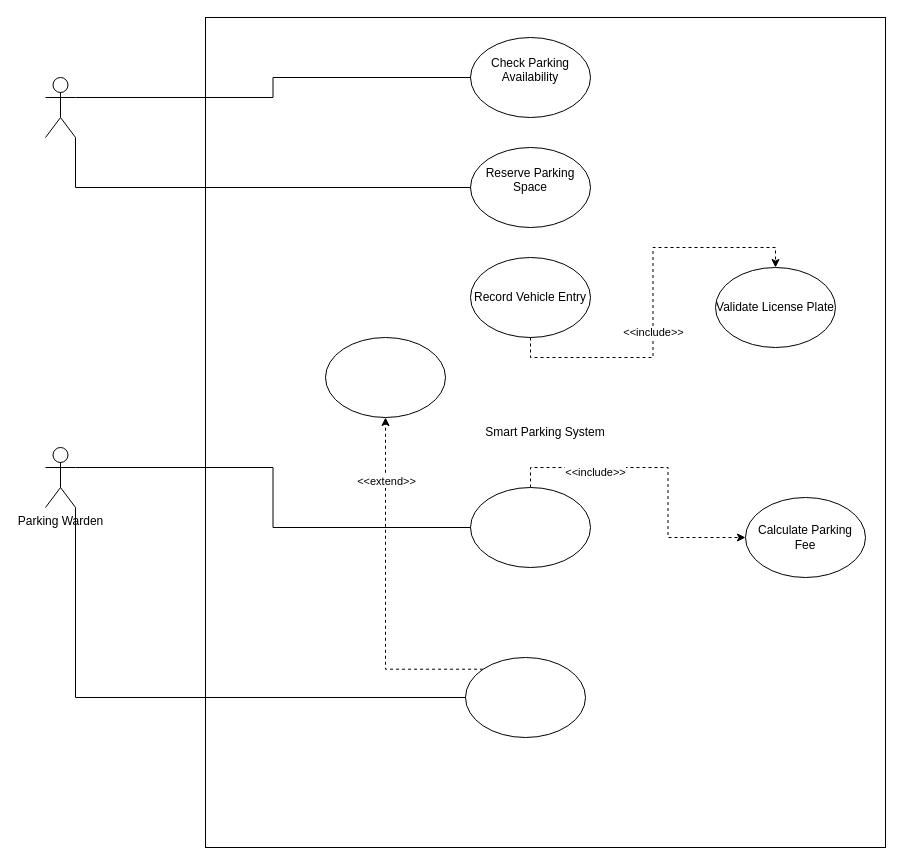
The diagram is 903 pixels wide and 865 high, and some of its shapes have lost their labels. The shapes that lost their labels are listed below. From the top down, each one's box as (x1, y1, x2, y2) in pixels, then its label:
(44, 76, 76, 138): Vehicle Owner
(324, 336, 446, 418): Track Parking Duration
(470, 486, 590, 568): Process Vehicle Exit
(464, 656, 586, 738): Monitor Unauthorized Overstay
